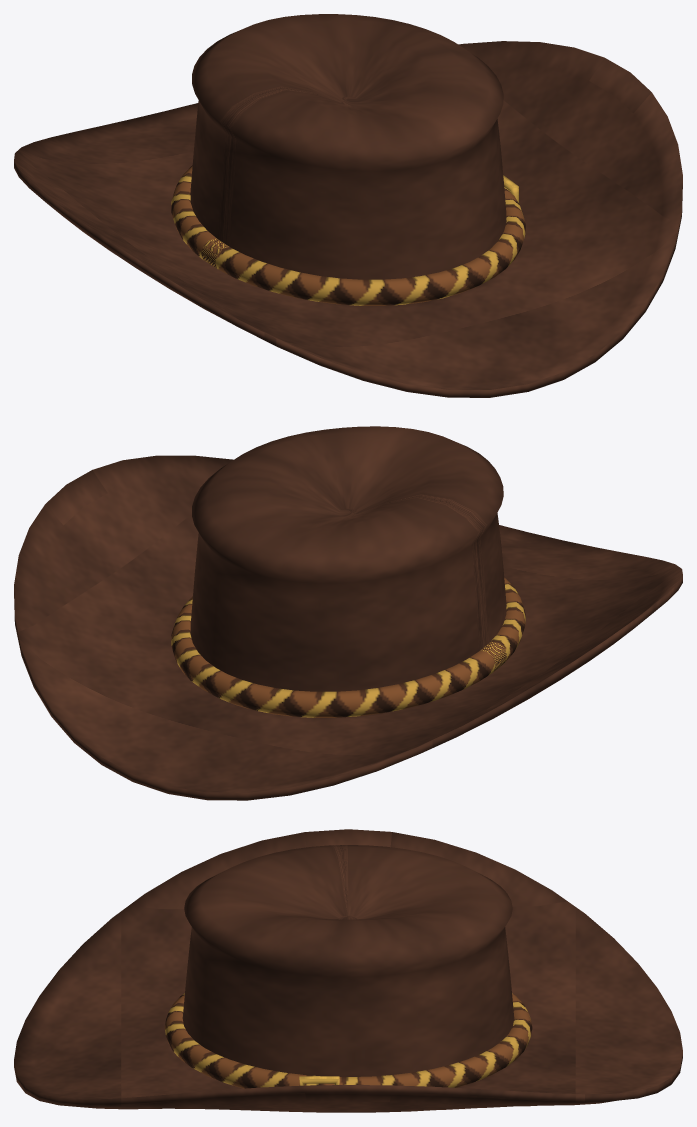
Rendered from hat_cowboy.glb.
The picture shows the model from 3 angles, top to bottom: view 1: azimuth 30°, elevation 25°; view 2: azimuth 150°, elevation 25°; view 3: azimuth 270°, elevation 25°; orthographic projection. The views are drawn at different scales.
Parts seen in each view (by area): view 1: hat_cowboy; view 2: hat_cowboy; view 3: hat_cowboy.
Part boxes in pixels (box(x1,y1,x2,y2)): hat_cowboy: box(14, 14, 682, 397); hat_cowboy: box(14, 426, 682, 800); hat_cowboy: box(14, 829, 682, 1112).
Bounding box in the file's own units: 0.416 × 0.1344 × 0.46.
Materials: 3 (3 with a texture image).
